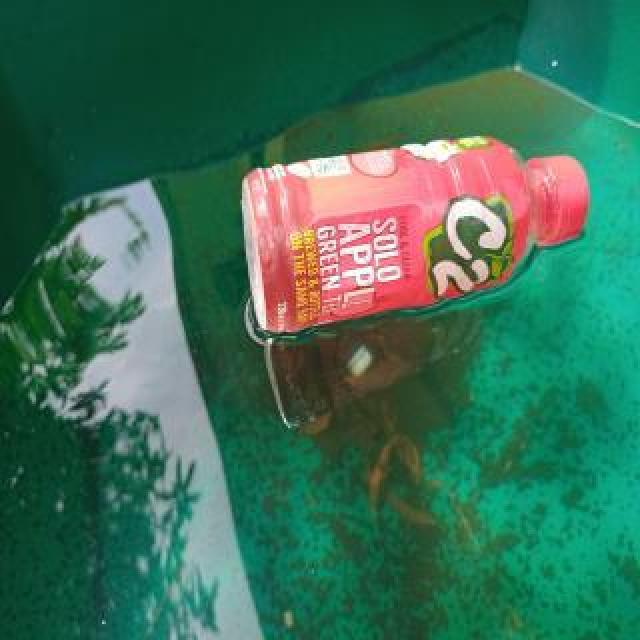bottle: (239, 134, 589, 336)
